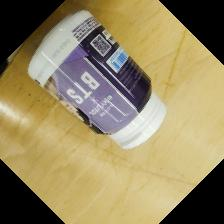Xylitol_BTS: (28, 8, 167, 150)
